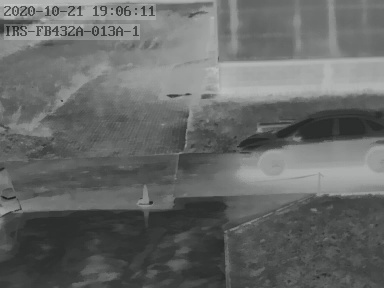vehicle: (237, 105, 384, 174)
